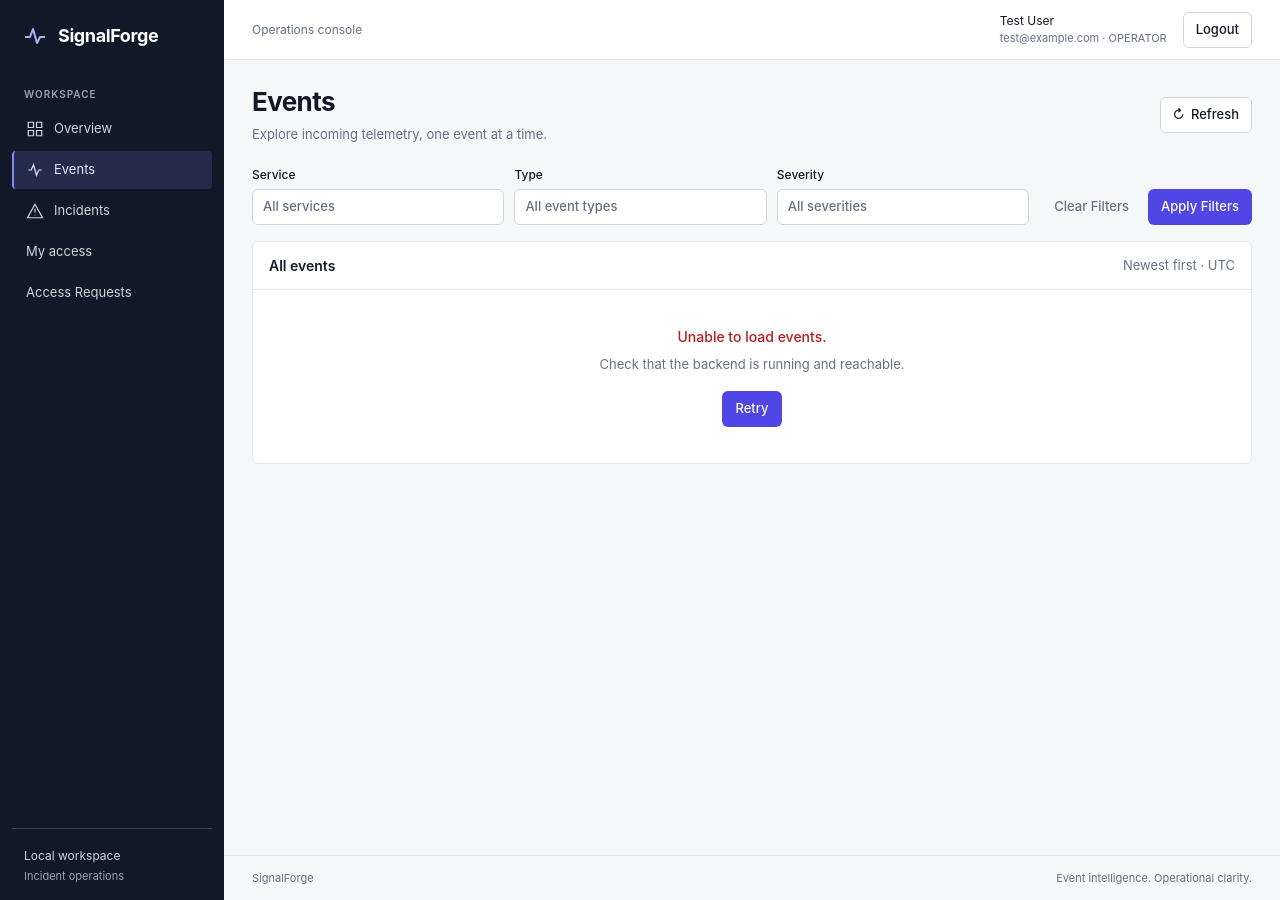
Test: Events › shows network errors and retries successfully
Expected: the message shows "Unable to load events", [600,328,904,426]
What coordinates should you click on to do the following:
click the button "Retry"
I would click on:
 (752, 408)
Its box is [722,390,782,426].
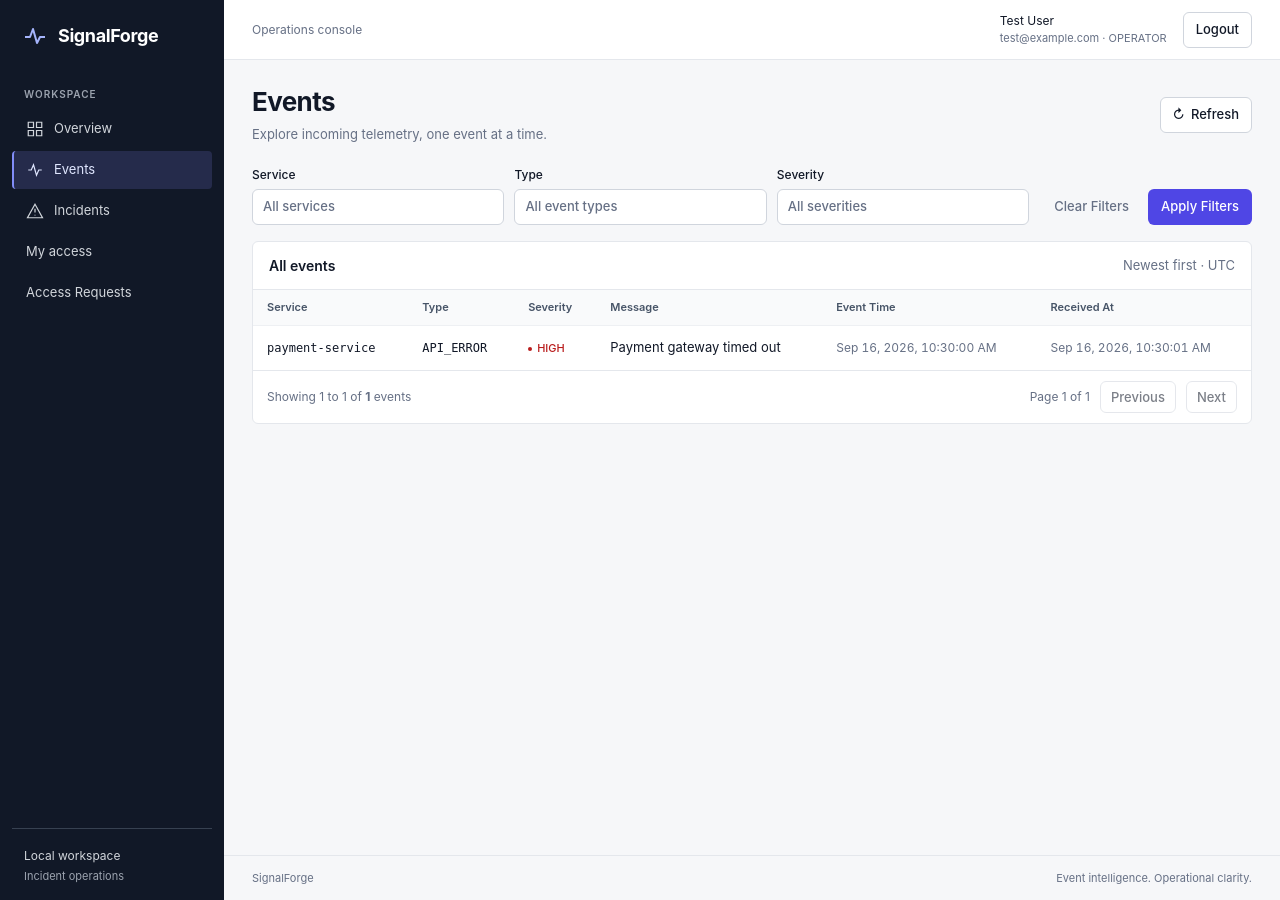
Result: the text "Payment gateway timed out" is shown at [610,338,808,358]
